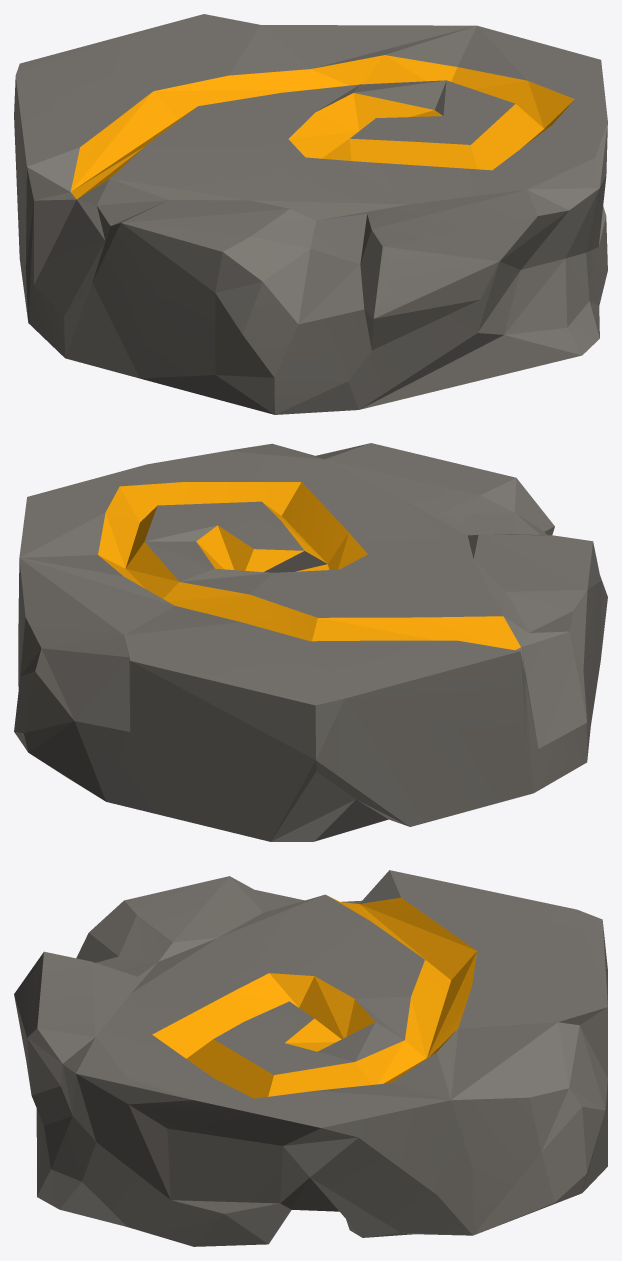
Rendered from SM_Env_Rounded_D_01.glb.
3 renders of one model, top to bottom at view 1: azimuth 30°, elevation 25°; view 2: azimuth 150°, elevation 25°; view 3: azimuth 270°, elevation 25°, orthographic. The views are drawn at different scales.
Parts seen in each view (by area): view 1: SM_Env_Rounded_D_01; view 2: SM_Env_Rounded_D_01; view 3: SM_Env_Rounded_D_01.
Part boxes in pixels (box(x1,y1,x2,y2)): SM_Env_Rounded_D_01: box(14, 14, 607, 414); SM_Env_Rounded_D_01: box(14, 443, 607, 841); SM_Env_Rounded_D_01: box(14, 870, 607, 1246).
Size of the model in its own units: 2.65 by 0.7049 by 2.5.
1 material, 1 textured.
